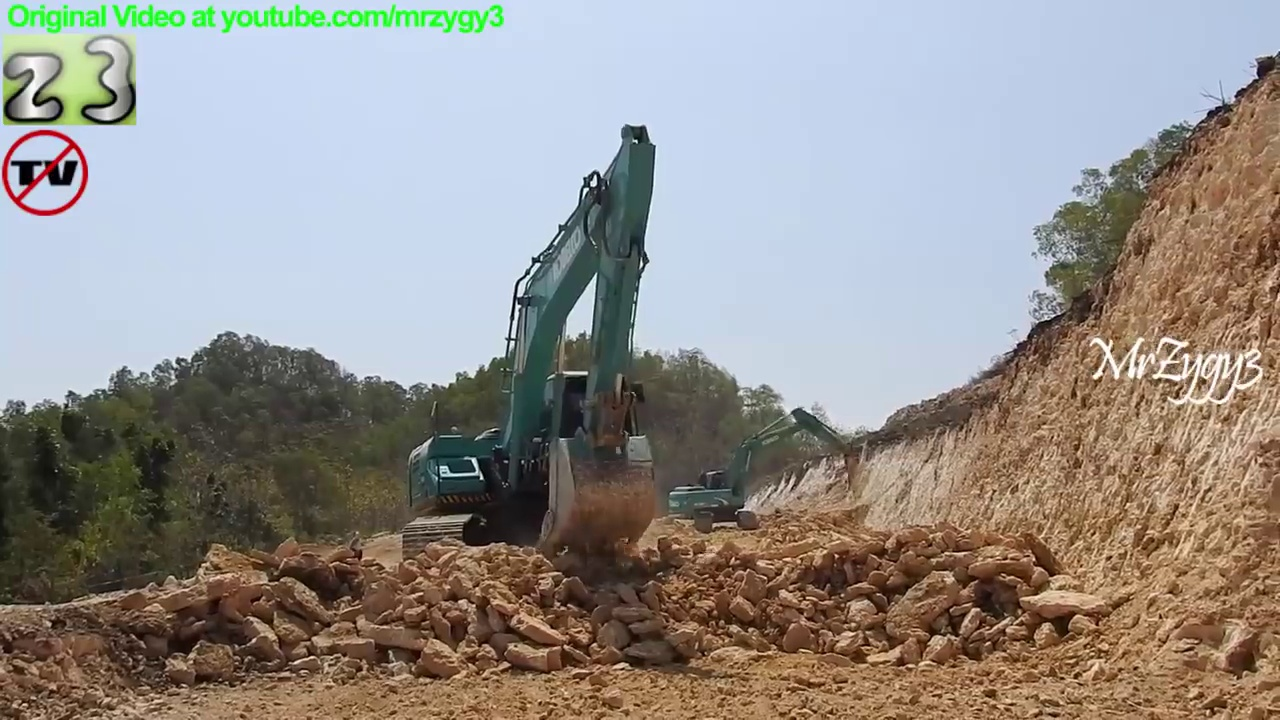excavator: (396, 119, 669, 590)
excavator breaker: (664, 403, 871, 537)
